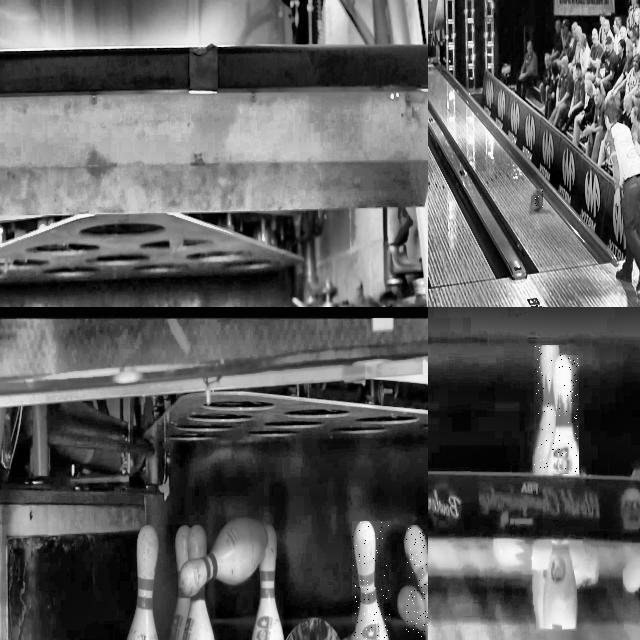bowling-ball: (534, 190, 542, 208)
bowling-pins: (353, 522, 388, 640), (252, 525, 284, 640), (126, 528, 158, 640), (550, 356, 579, 473), (534, 345, 559, 471), (406, 525, 428, 640), (169, 581, 190, 640), (176, 525, 189, 577)
sweep board: (428, 472, 640, 542)
